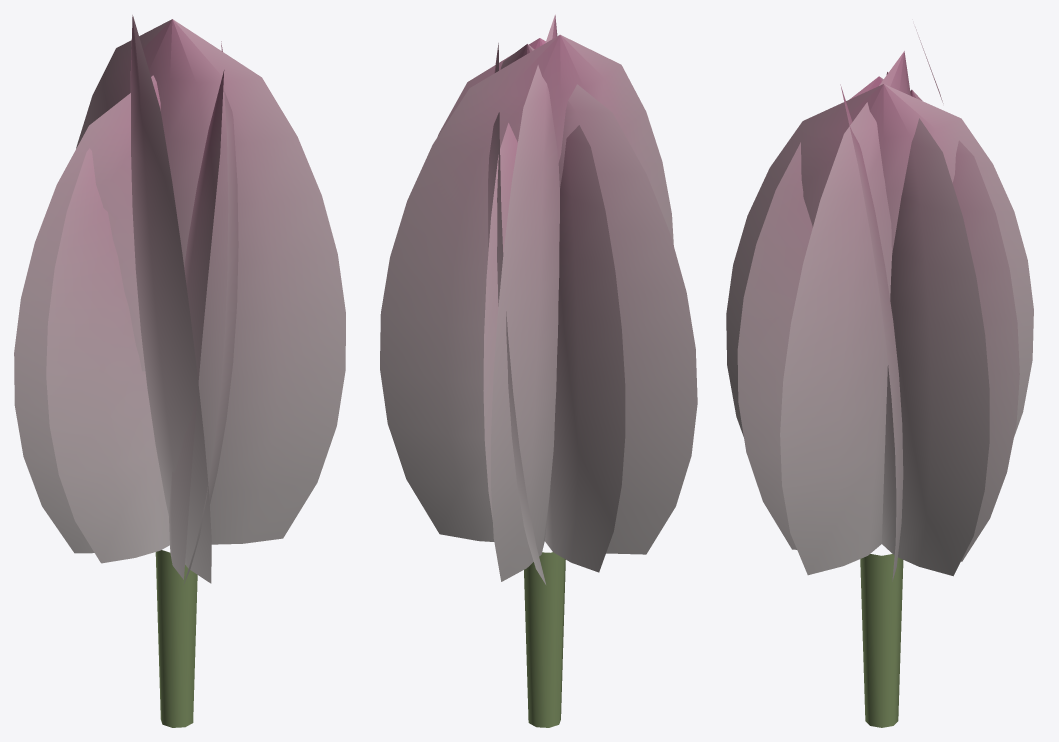
The model's file is lotus_bud.glb.
3 views of the same model, side by side, from view 1: azimuth 30°, elevation 25°; view 2: azimuth 150°, elevation 25°; view 3: azimuth 270°, elevation 25° (orthographic).
Parts seen in each view (by area): view 1: lotus_bud; view 2: lotus_bud; view 3: lotus_bud.
Part boxes in pixels (box(x1,y1,x2,y2)): lotus_bud: box(14, 15, 345, 727); lotus_bud: box(380, 14, 697, 727); lotus_bud: box(726, 27, 1033, 727).
Bounding box in the file's own units: 0.5891 × 1.39 × 0.5792.
